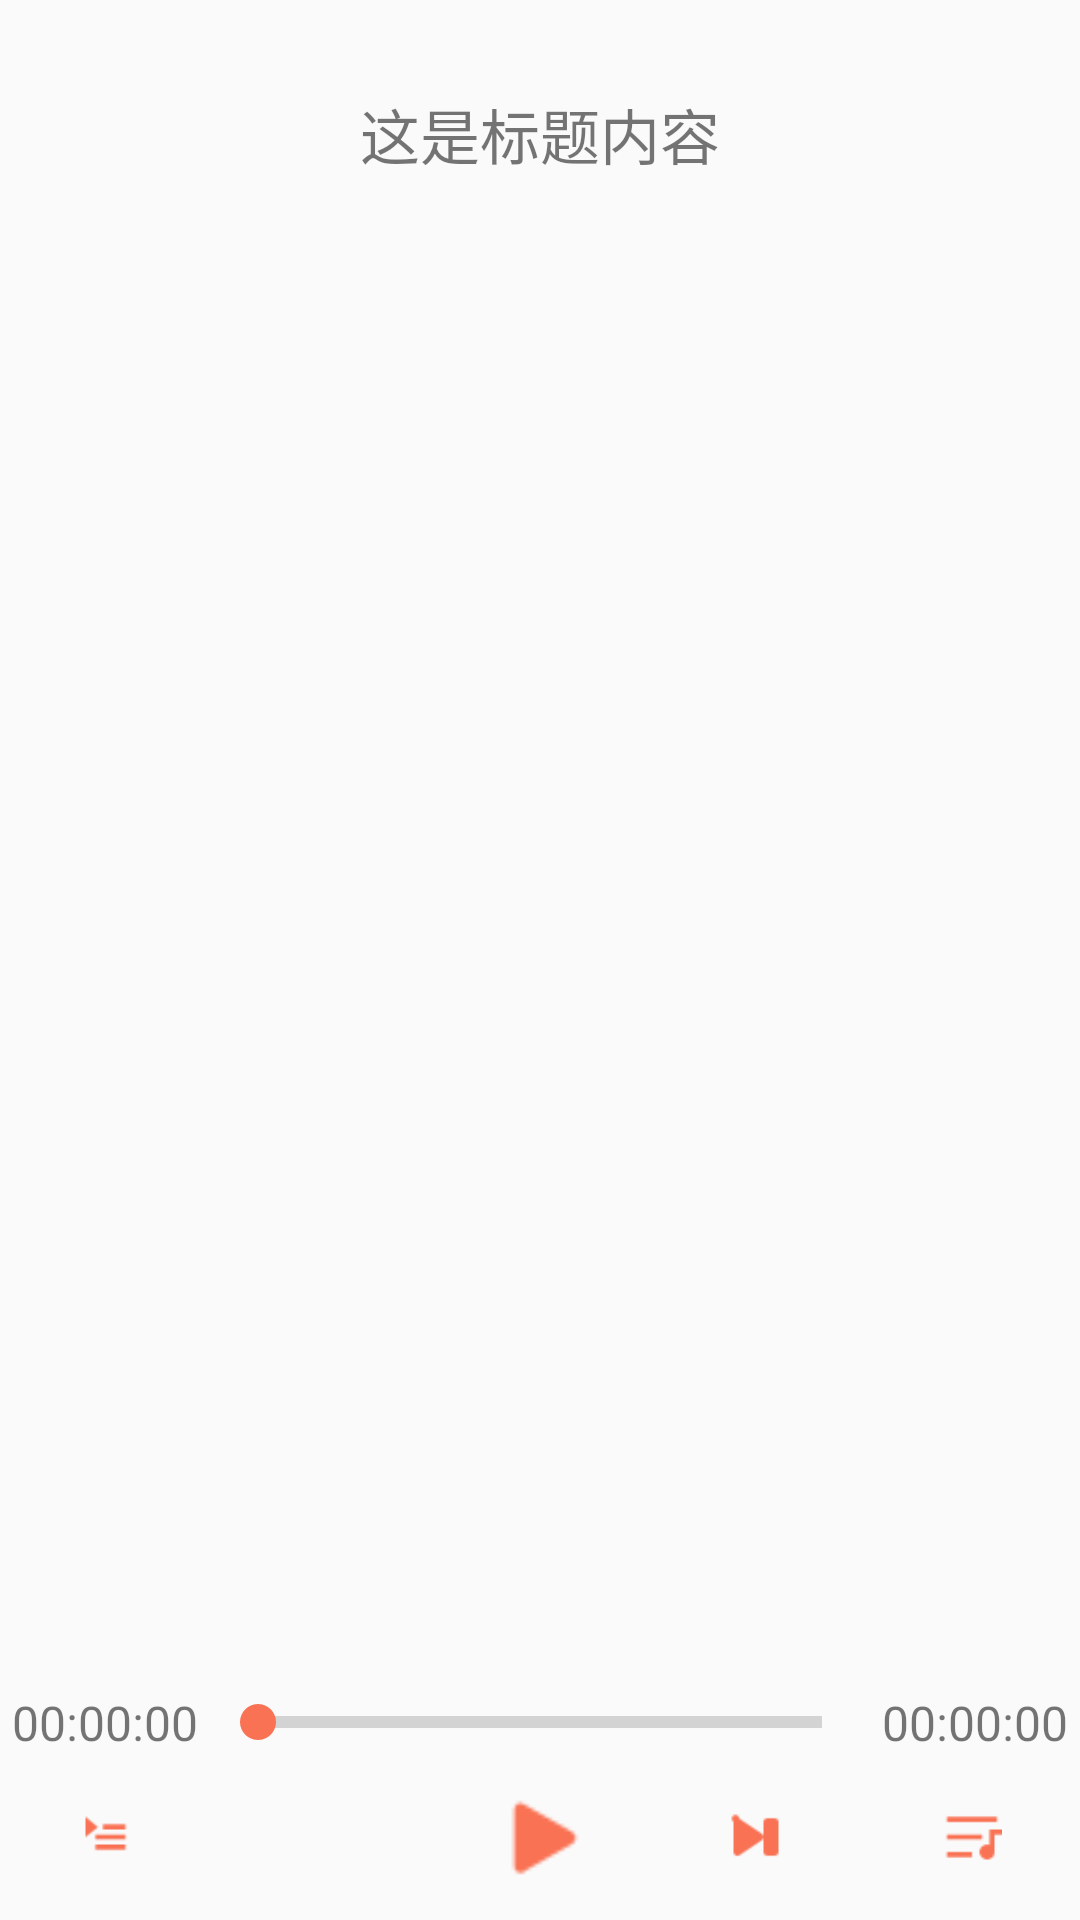

Point at icon controls on the screen. Image size 1080*1920, points as (x=x, y=y).
play mode list: (x=106, y=1833)
player list: (x=974, y=1838)
player next: (x=755, y=1835)
player play: (x=545, y=1838)
